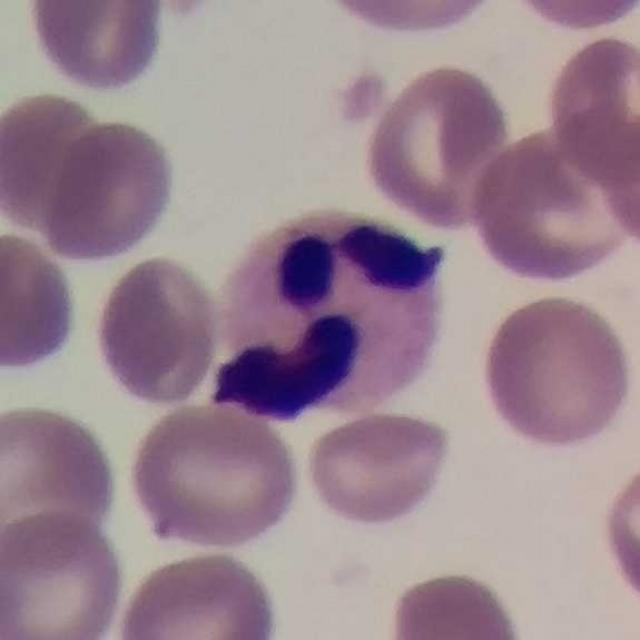Neutrophil: (199, 196, 459, 432)
Platelets: (328, 66, 389, 131)
RBC: (124, 398, 305, 554), (463, 124, 636, 287), (358, 58, 516, 233), (473, 291, 638, 454), (88, 250, 223, 410), (39, 115, 181, 266), (0, 397, 122, 568), (299, 406, 460, 534), (0, 87, 119, 236), (0, 506, 128, 640), (112, 547, 282, 640), (542, 30, 640, 184), (22, 0, 172, 97), (0, 227, 81, 380), (382, 565, 528, 640), (316, 0, 507, 43), (593, 446, 640, 619), (594, 92, 640, 263), (500, 0, 640, 36)
